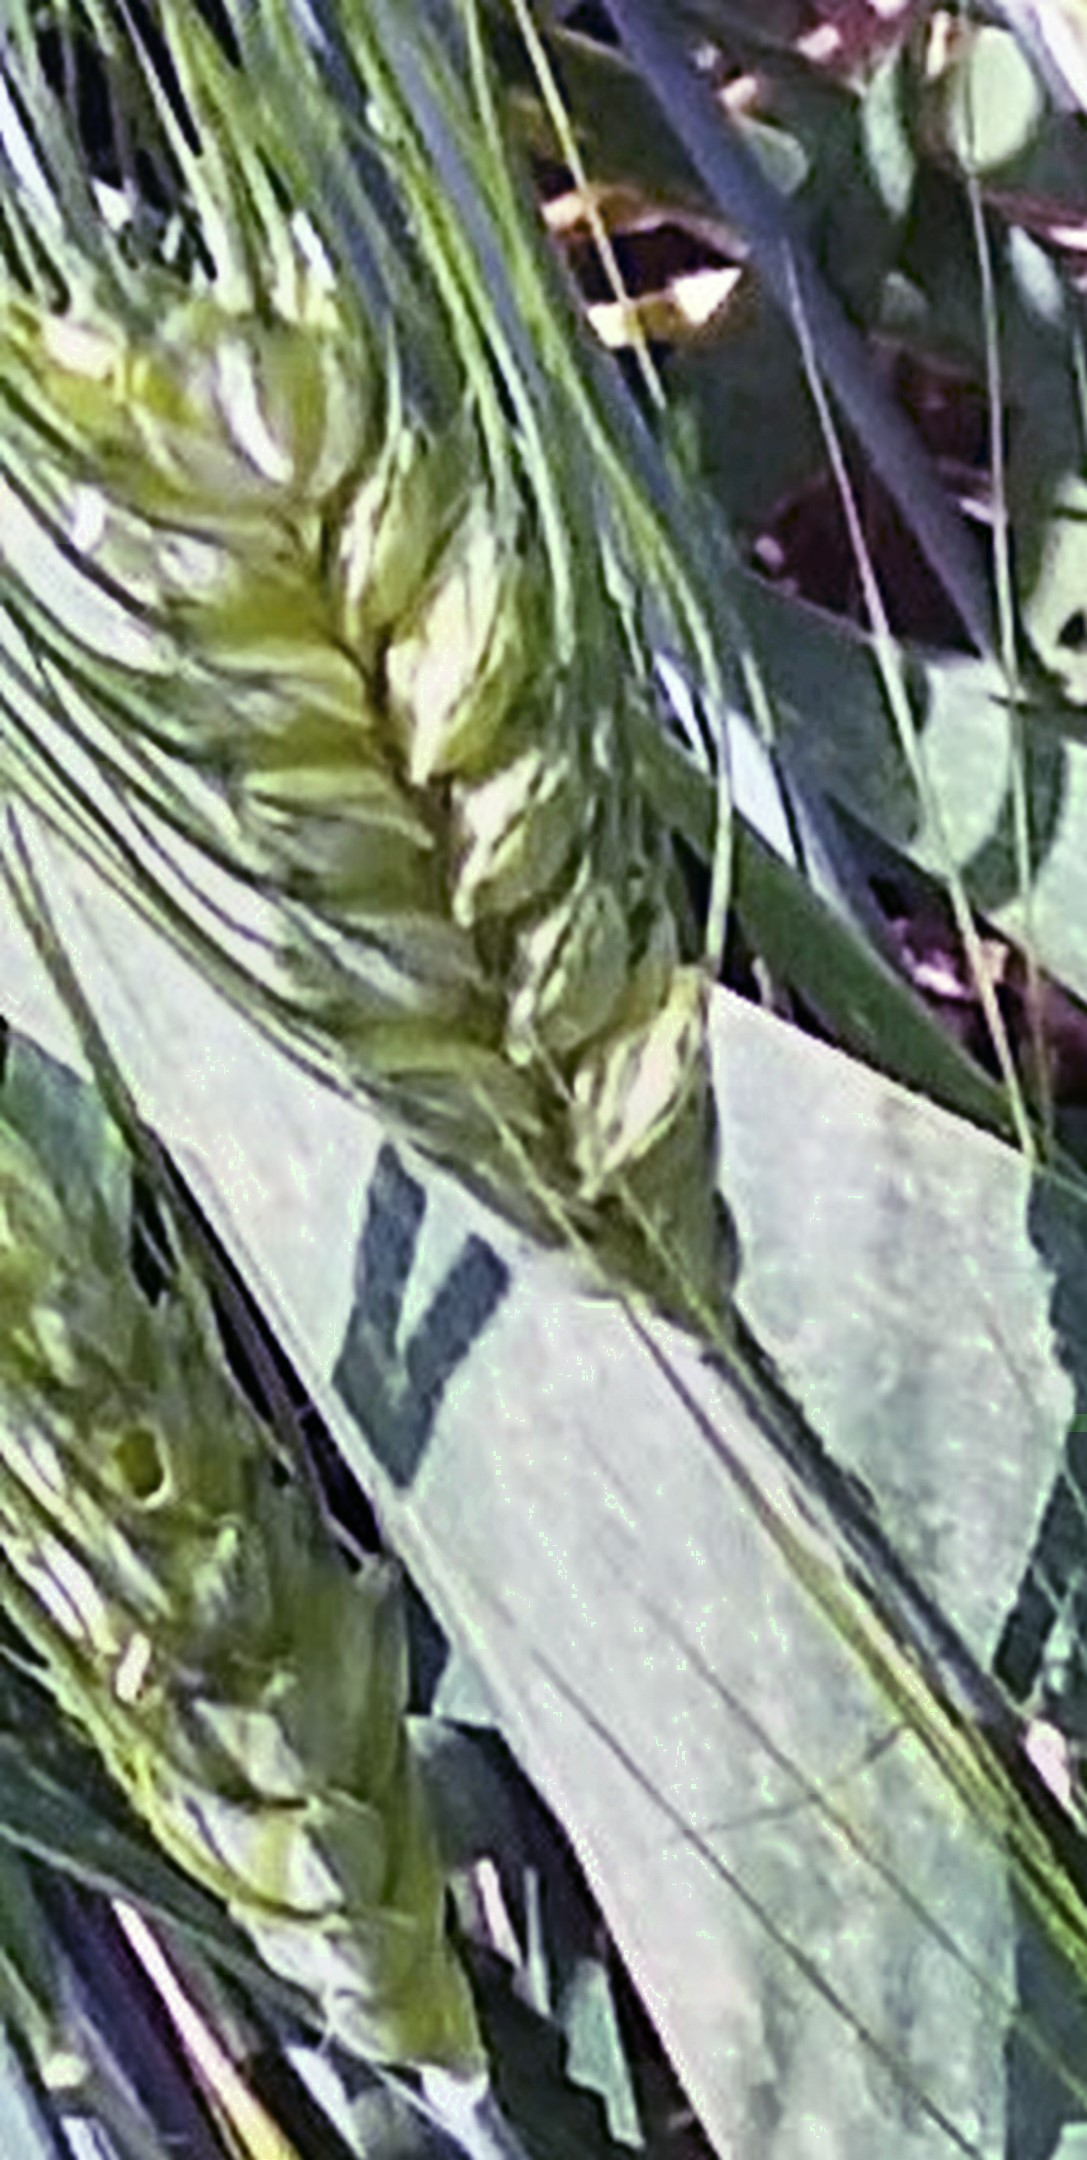Healthy Wheat: (42, 268, 814, 1300)
